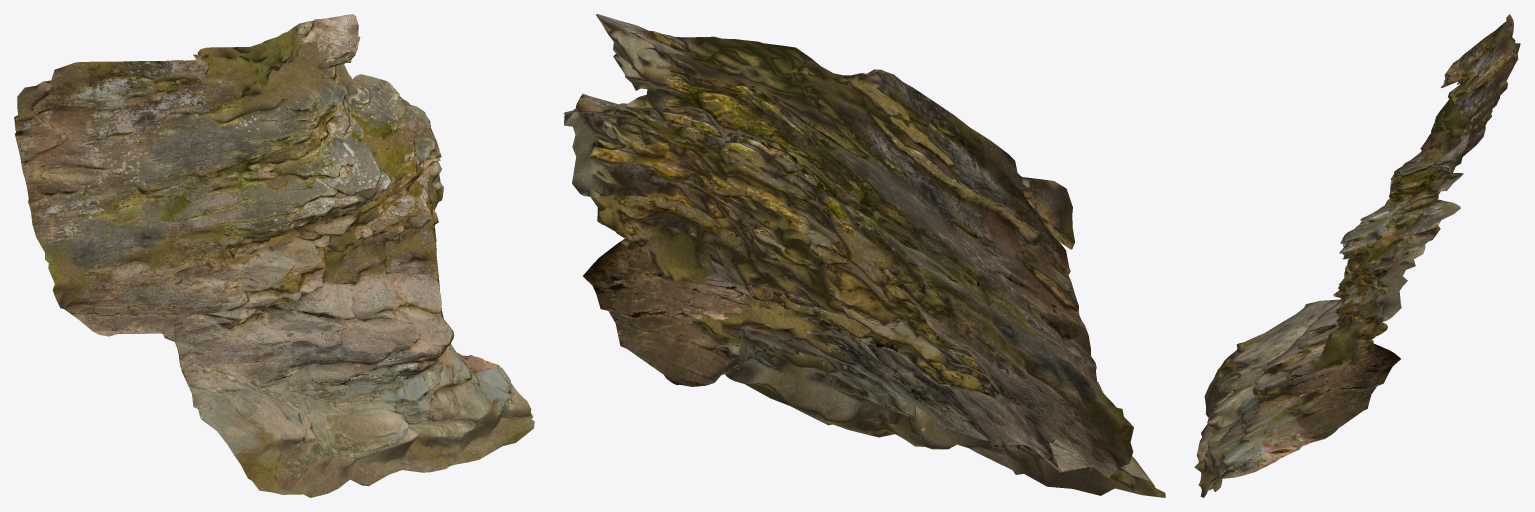
Rendered from vach-da-2.glb.
3 views of the same model, side by side, from view 1: azimuth 30°, elevation 25°; view 2: azimuth 150°, elevation 25°; view 3: azimuth 270°, elevation 25° (orthographic). The views are drawn at different scales.
Parts seen in each view (by area): view 1: rock_face_02; view 2: rock_face_02; view 3: rock_face_02.
Boxes of the visible parts, box(x1,y1,x2,y2) form: rock_face_02: box(14, 14, 534, 497); rock_face_02: box(563, 14, 1165, 497); rock_face_02: box(1194, 14, 1520, 497).
Size of the model in its own units: 0.9998 by 0.9116 by 0.7845.
1 material, 1 textured.
